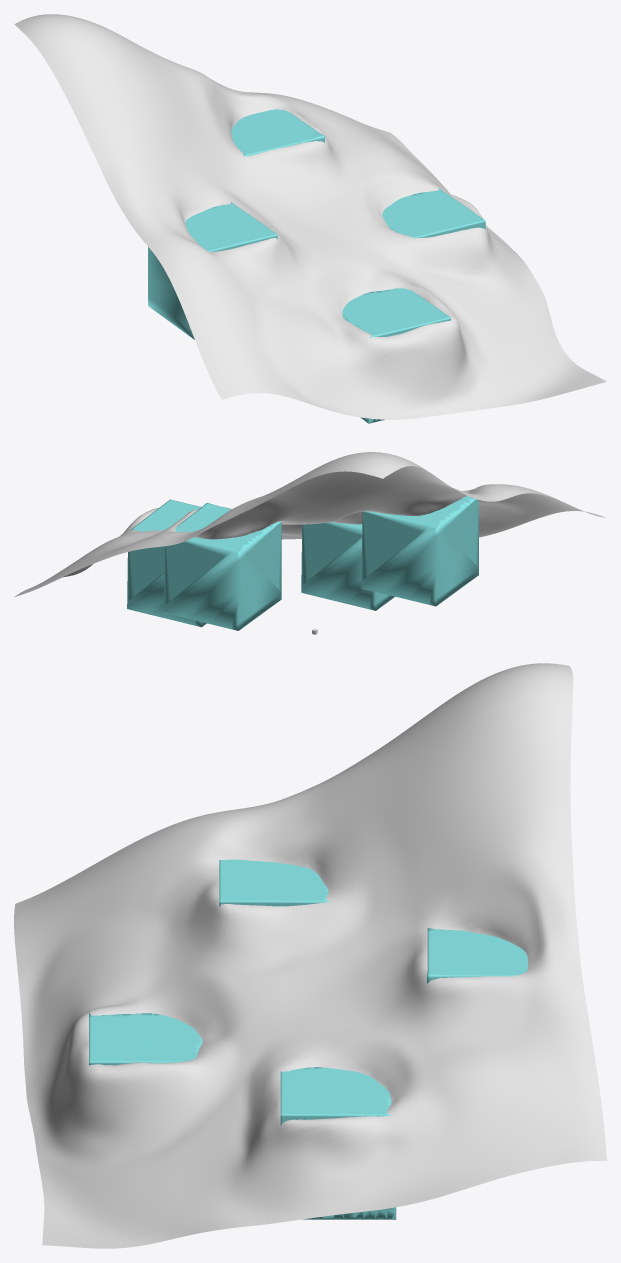
Rendered from terrain.glb.
3 views of the same model, one above another, from view 1: azimuth 30°, elevation 25°; view 2: azimuth 150°, elevation 25°; view 3: azimuth 270°, elevation 25° (orthographic). The views are drawn at different scales.
Parts seen in each view (by area): view 1: Plan.col, Cube.001.col.002, Cube.001.col, Cube.001.col.001, Cube.001.col.003; view 2: Plan.col, Cube.001.col.003, Cube.001.col.002, Cube.001.col, Cube.001.col.001; view 3: Plan.col, Cube.001.col.001, Cube.001.col, Cube.001.col.002, Cube.001.col.003.
Part boxes in pixels (left/top/right/bottom): Plan.col: left=14, top=14, right=606, bottom=419; Cube.001.col.002: left=148, top=202, right=277, bottom=339; Cube.001.col: left=342, top=288, right=450, bottom=423; Cube.001.col.001: left=382, top=188, right=485, bottom=238; Cube.001.col.003: left=231, top=109, right=324, bottom=156; Plan.col: left=15, top=452, right=605, bottom=596; Cube.001.col.003: left=164, top=503, right=281, bottom=630; Cube.001.col.002: left=361, top=496, right=478, bottom=606; Cube.001.col: left=301, top=522, right=394, bottom=610; Cube.001.col.001: left=127, top=499, right=206, bottom=627; Plan.col: left=14, top=663, right=606, bottom=1248; Cube.001.col.001: left=280, top=1067, right=396, bottom=1219; Cube.001.col: left=89, top=1012, right=202, bottom=1065; Cube.001.col.002: left=219, top=859, right=329, bottom=906; Cube.001.col.003: left=427, top=928, right=527, bottom=983.
Size of the model in its own units: 209 by 142 by 208.
